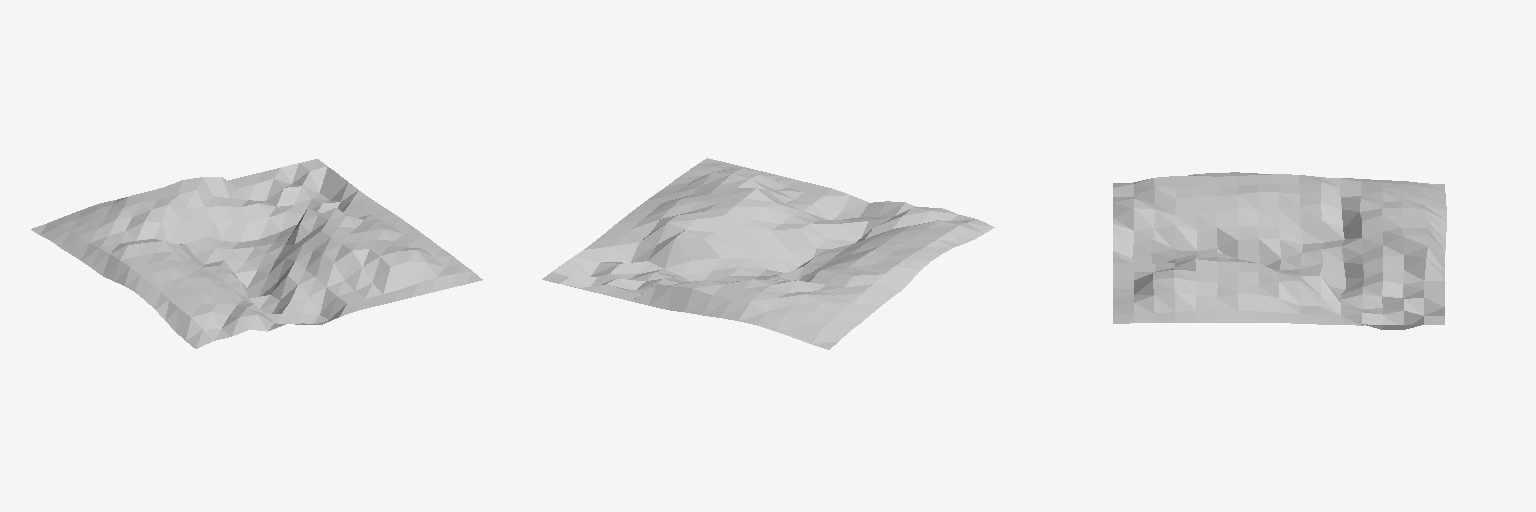
File: ground.obj
3 views of the same model, side by side, from view 1: azimuth 30°, elevation 25°; view 2: azimuth 150°, elevation 25°; view 3: azimuth 270°, elevation 25° (orthographic).
Visible parts, largest first — view 1: Plane_Plane.001; view 2: Plane_Plane.001; view 3: Plane_Plane.001.
Part boxes in pixels (x1,y1,x2,y2): Plane_Plane.001: (31,159,482,348); Plane_Plane.001: (542,158,994,349); Plane_Plane.001: (1113,172,1446,329).
Size of the model in its own units: 8.03 by 1.24 by 8.05.